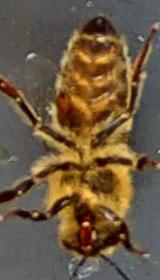varroa_mite: (47, 83, 81, 126)
